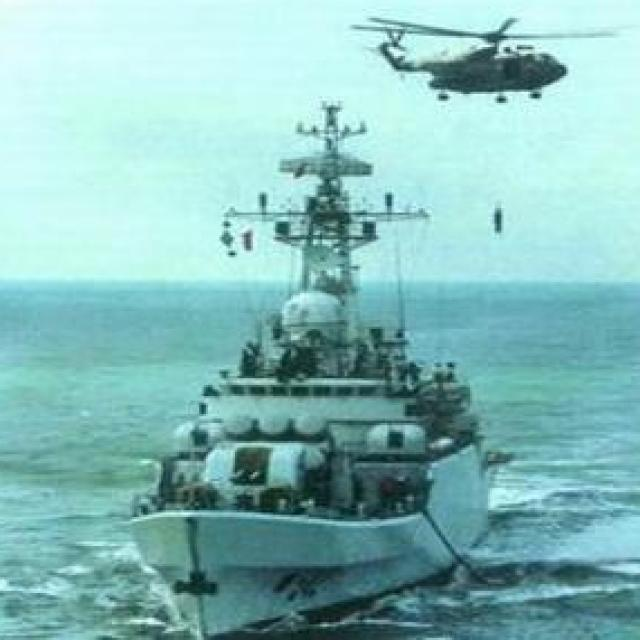navalvessels: (131, 98, 500, 624)
